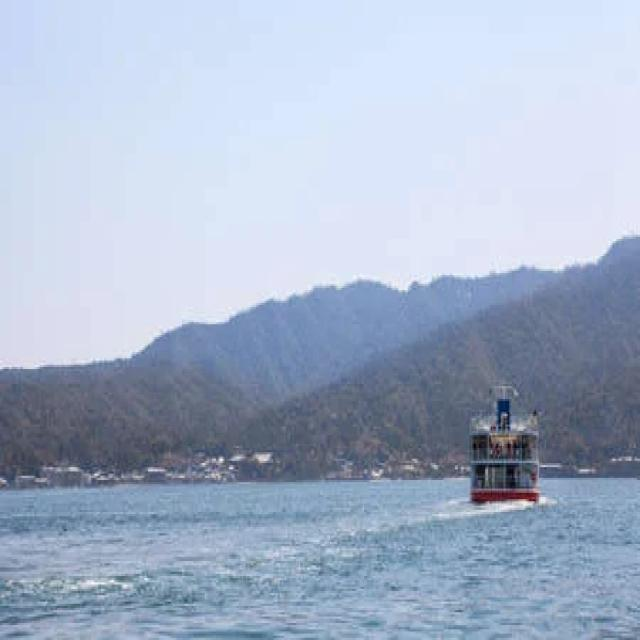passenger ship: (452, 356, 546, 498)
